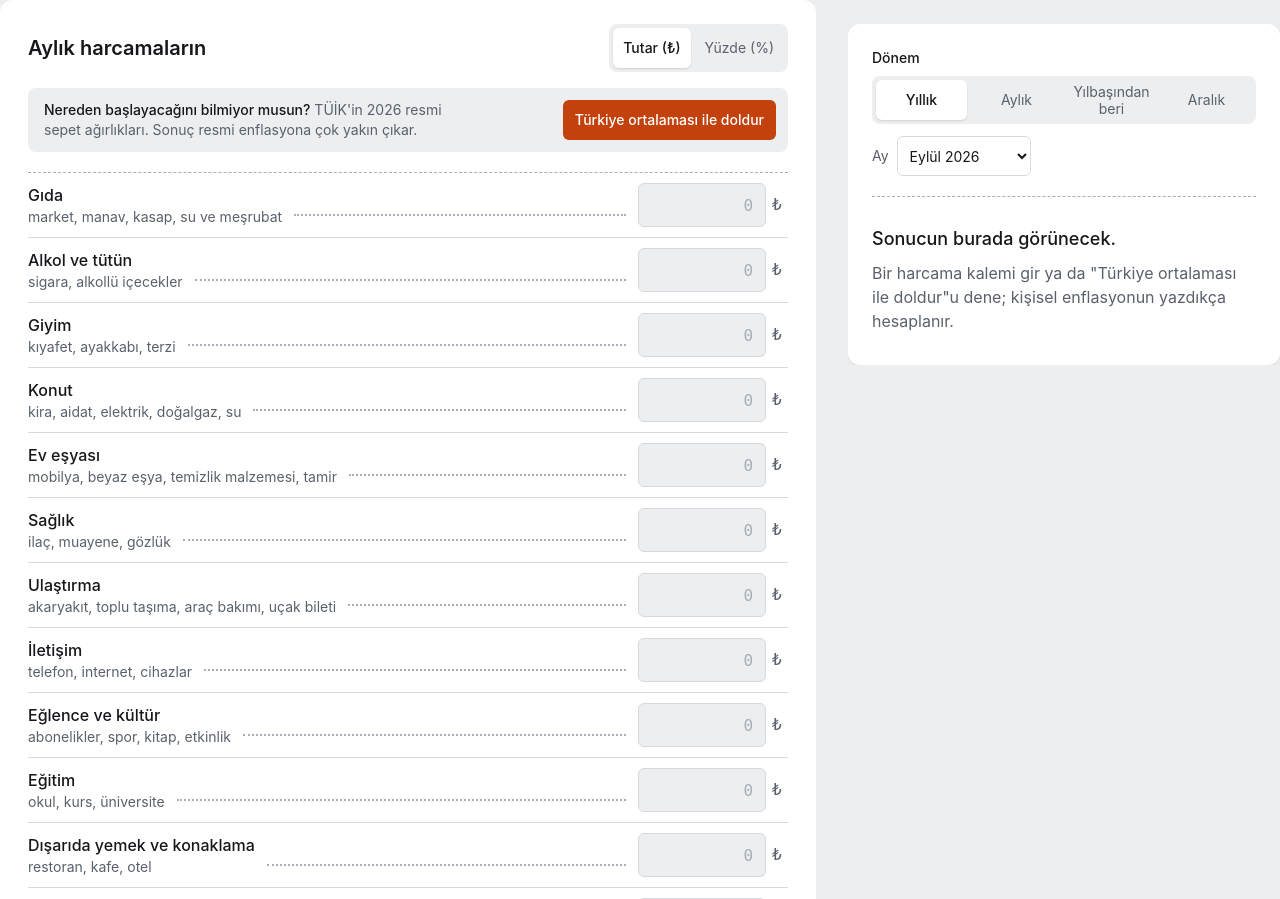
it: Calculator › tutar girilince sonucu hesaplar, tek kalem notunu gösterir ve URL'i günceller
In the field labelled "Konut": (702, 400) [638,378,766,422], type "25.000"
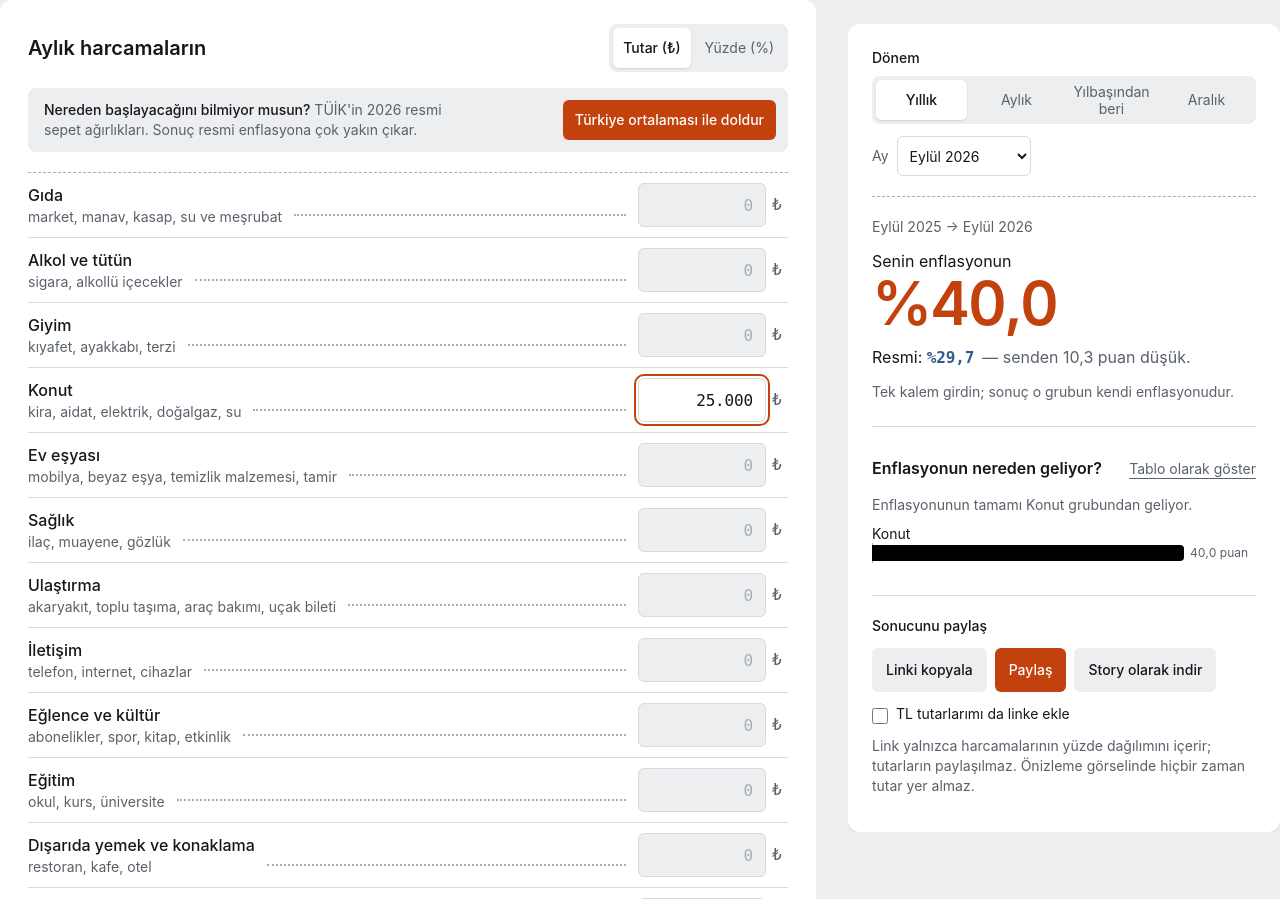
Expected: the text "%40,0" is shown, [872,267,1057,339]
Expected: the text "Tek kalem girdin; sonuç o grubun kendi enflasyonudur." is shown, [872,382,1256,402]
